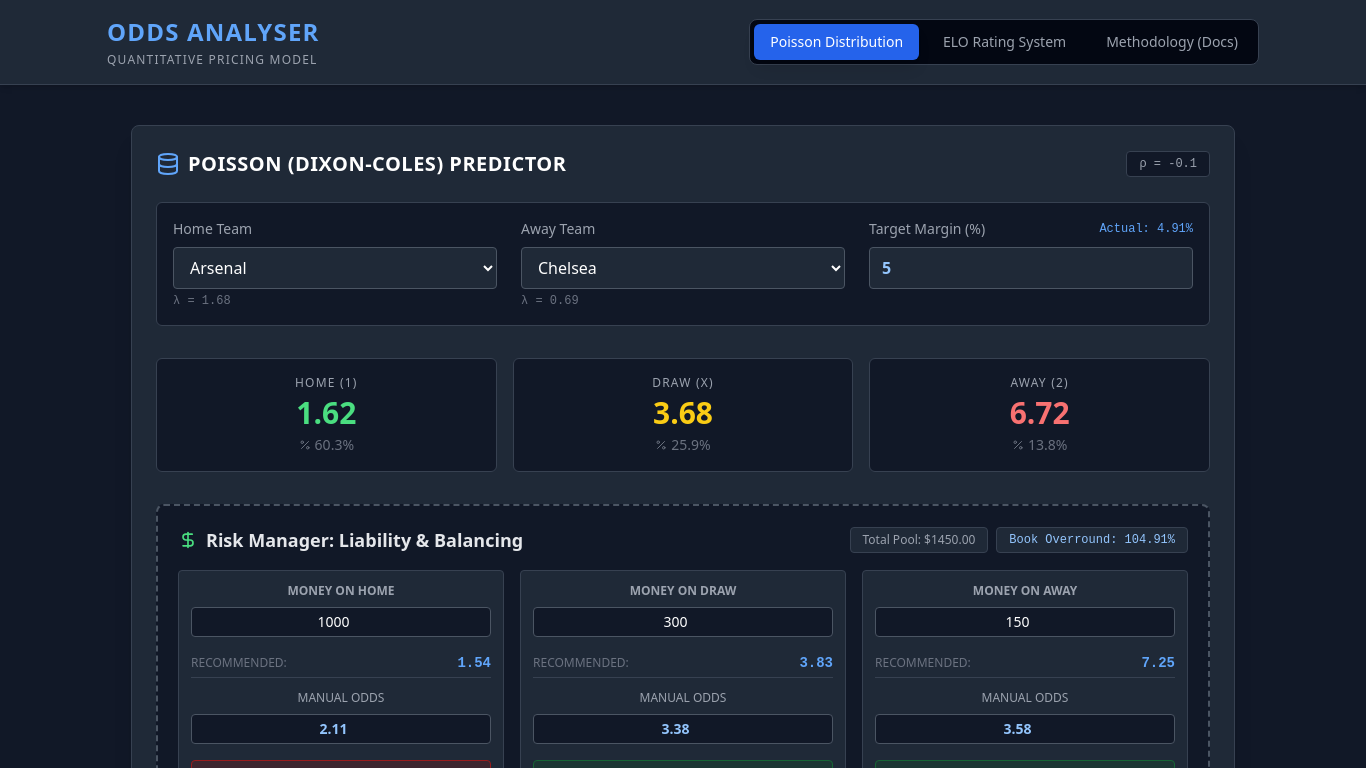
switching to ELO shows calibrated parameters and keeps the team selection
The width and height of the screenshot is (1366, 768).
Select "Chelsea" in the dropdown labelled "Home Team". click: (335, 268)
box: [173, 247, 497, 289]
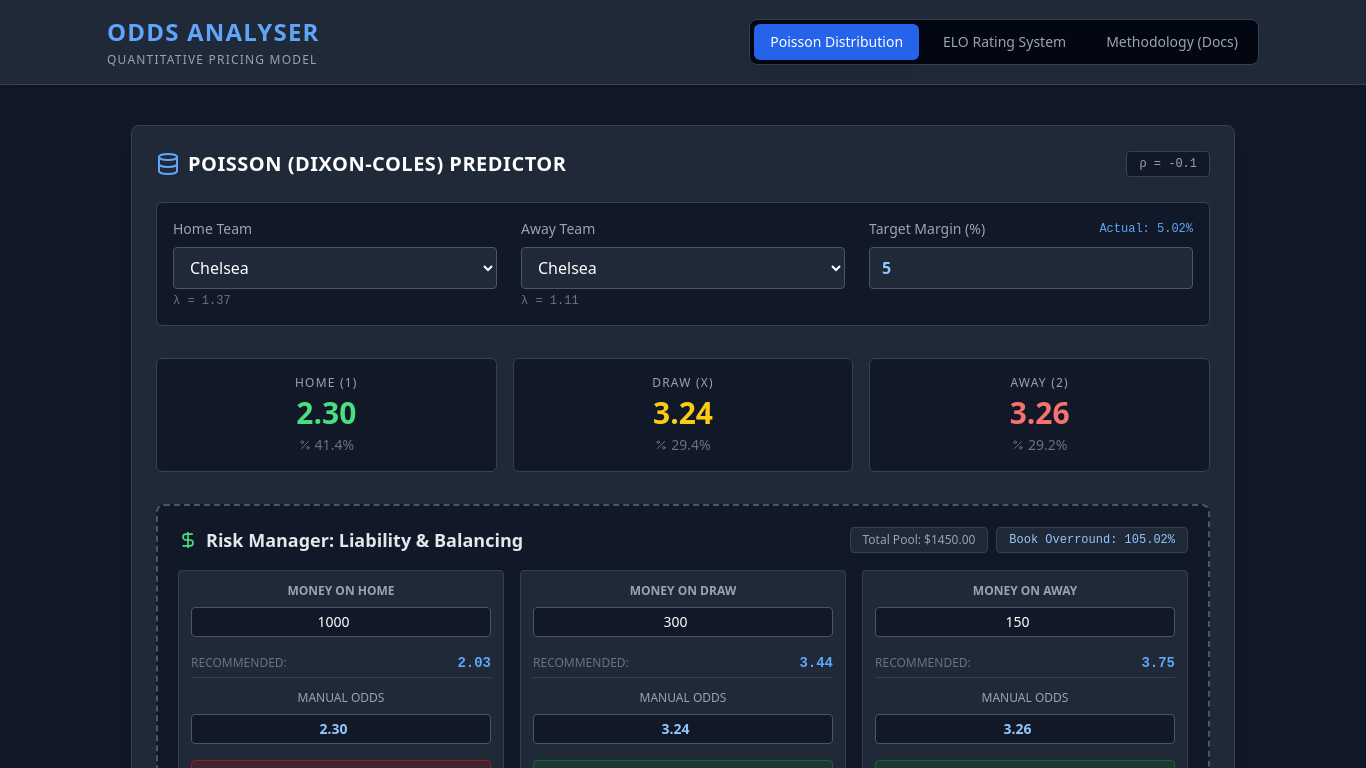
Select "Arsenal" in the dropdown labelled "Away Team". click: (683, 268)
box: [521, 247, 845, 289]
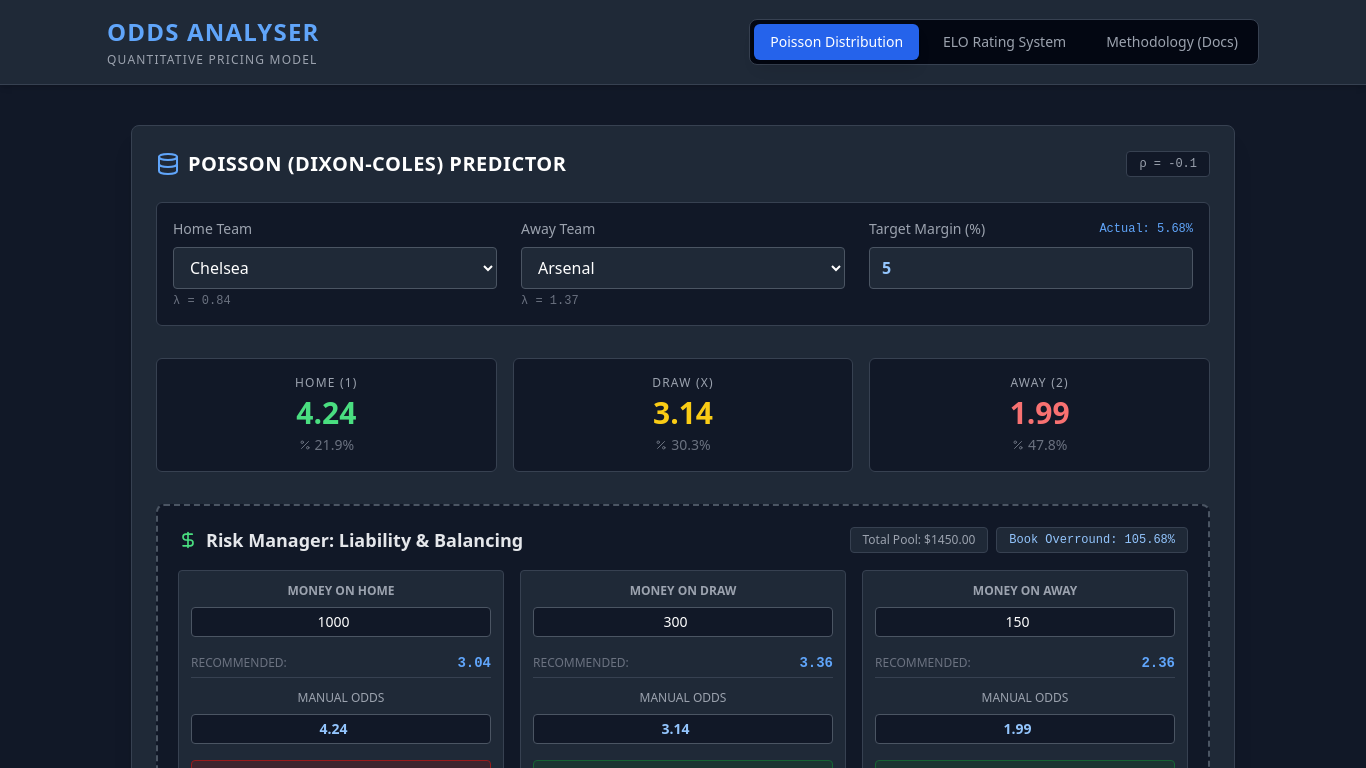
Click the button "ELO Rating System". click: (1005, 42)
box: [927, 24, 1082, 60]
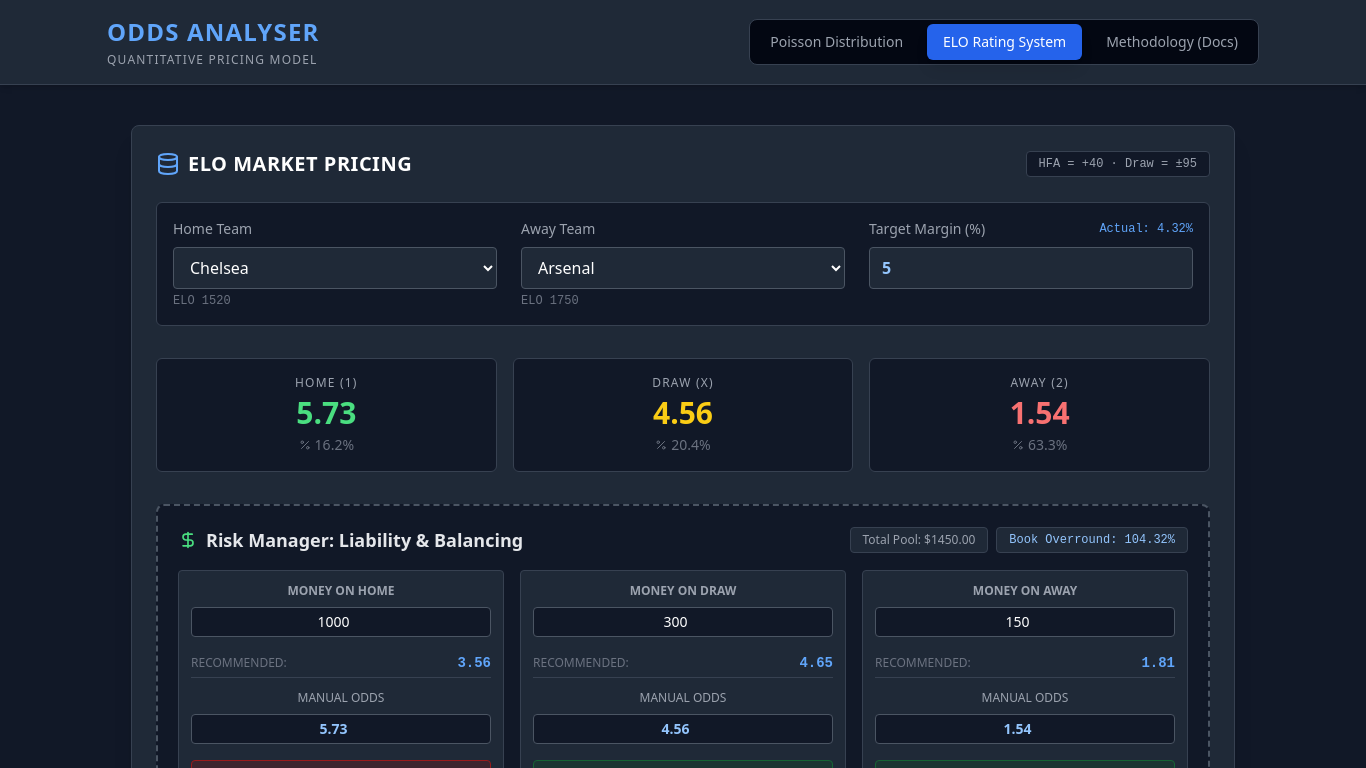
Result: the dropdown labelled "Home Team" shows "Chelsea" at [173, 247, 497, 289]
Result: the dropdown labelled "Away Team" shows "Arsenal" at [521, 247, 845, 289]
Result: the text "HFA = +40 · Draw = ±95" is shown at [1026, 151, 1210, 177]
